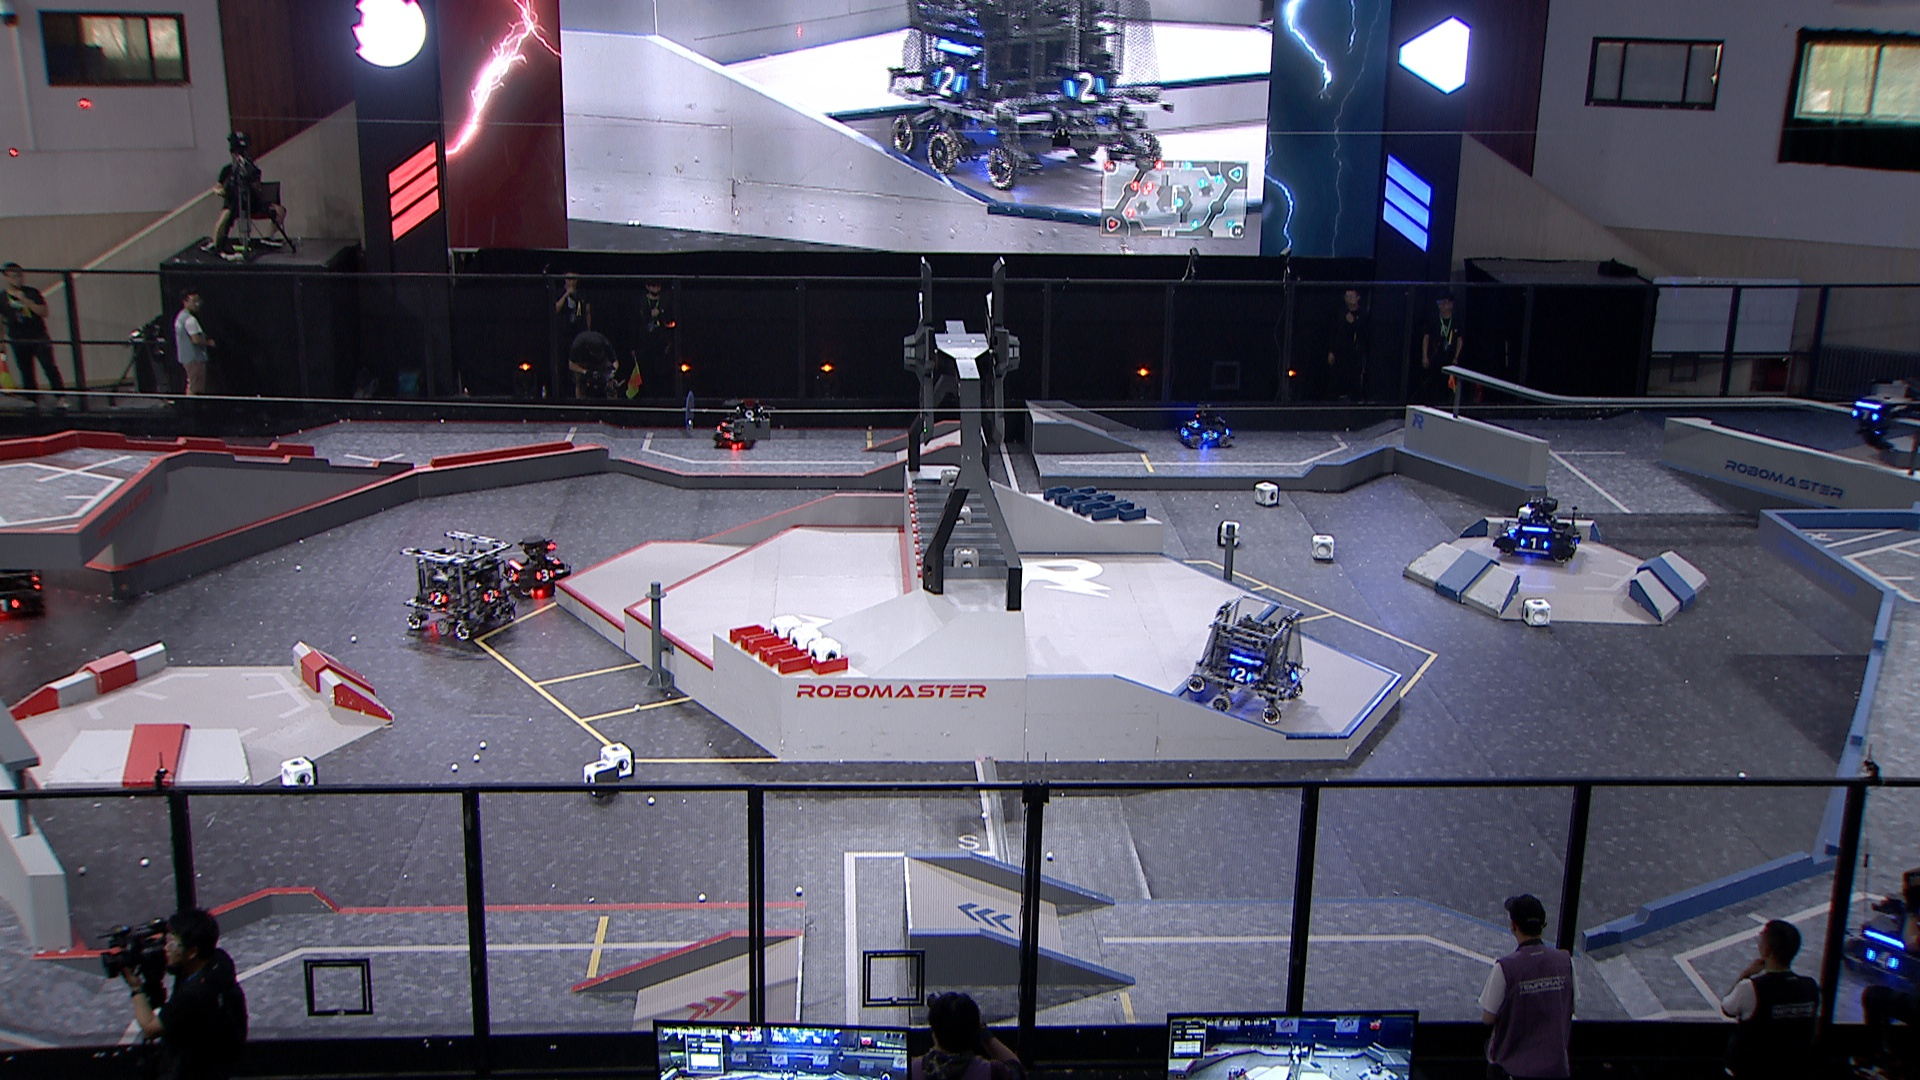armor: (1863, 948, 1902, 971), (1518, 537, 1549, 551), (1851, 407, 1882, 422), (1229, 666, 1253, 683), (481, 585, 500, 605), (427, 589, 447, 607), (533, 568, 556, 580), (502, 567, 520, 582), (1290, 665, 1302, 684), (1201, 429, 1218, 442), (1567, 535, 1580, 551), (1505, 520, 1520, 533), (1185, 418, 1201, 429), (545, 555, 558, 564)
car: (1185, 591, 1309, 727), (400, 531, 517, 637), (1840, 894, 1920, 996), (1489, 484, 1581, 566), (501, 531, 574, 599), (1178, 404, 1237, 452), (712, 398, 764, 450)
watcher: (1846, 392, 1902, 455)
